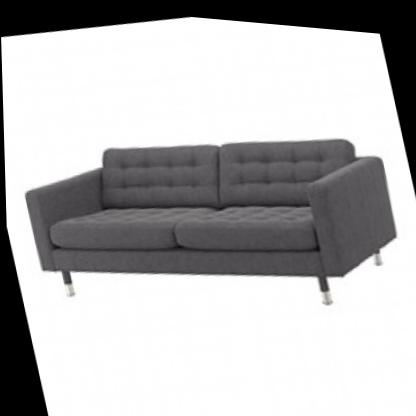Sofa: (5, 70, 412, 360)
